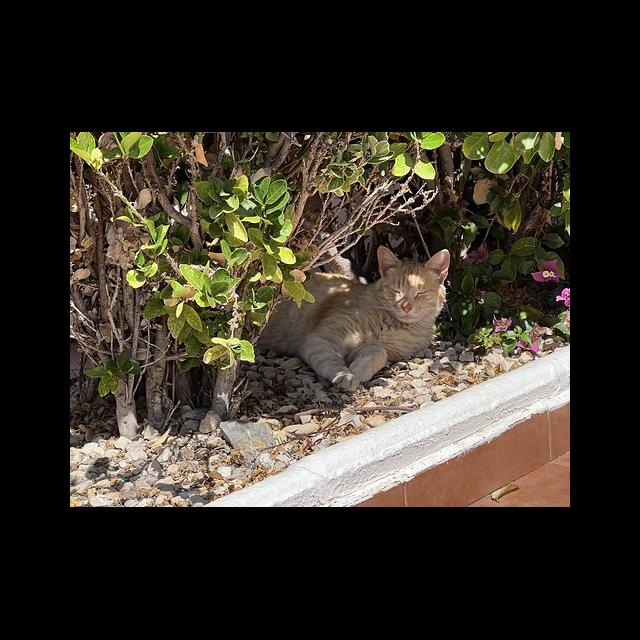animals: (263, 246, 451, 392)
